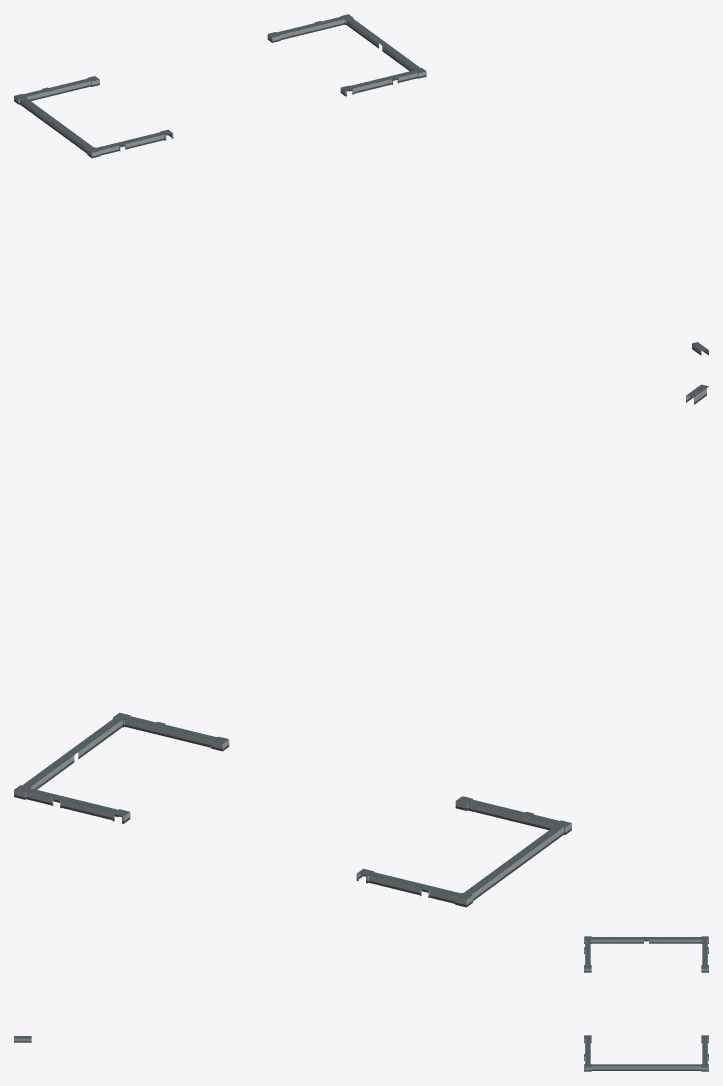
The model's file is AST-STF-G3-026.glb.
3 renders of one model, top to bottom at view 1: azimuth 30°, elevation 25°; view 2: azimuth 150°, elevation 25°; view 3: azimuth 270°, elevation 25°, orthographic. The views are drawn at different scales.
Size of the model in its own units: 211 by 3.34 by 475.
Materials: 4 (4 with a texture image).
